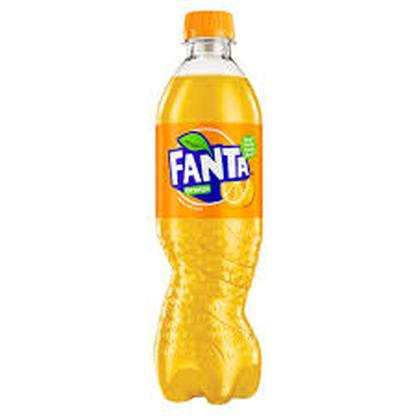plastic bottle: (154, 11, 265, 405)
